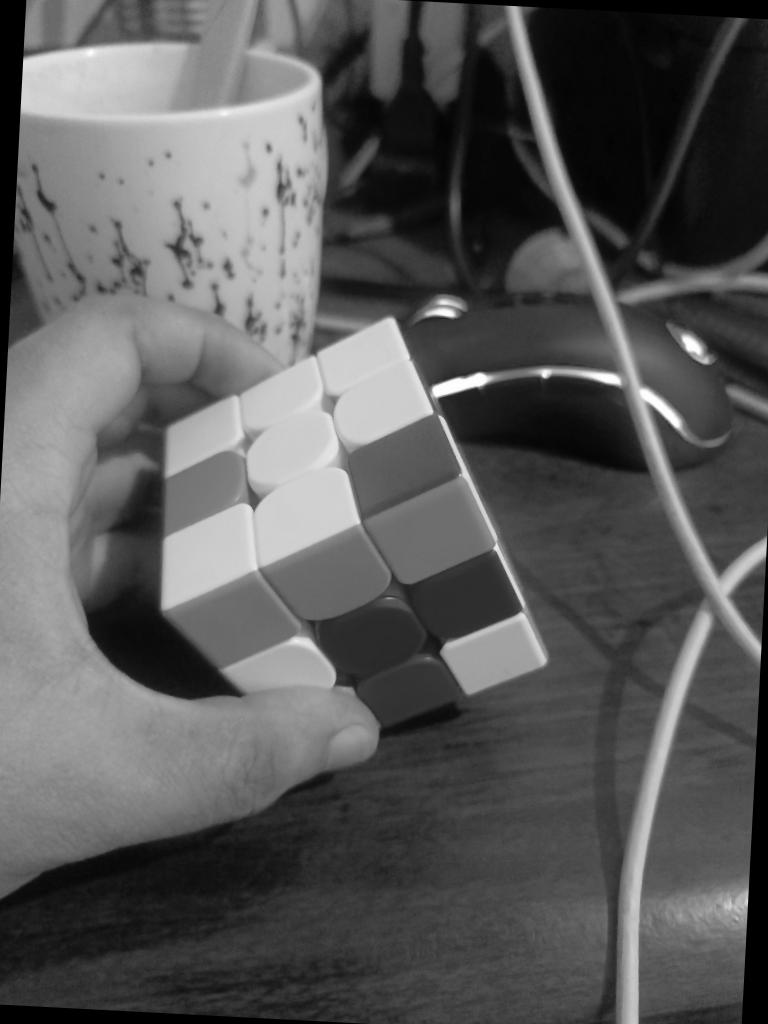rubik: (146, 302, 568, 738)
